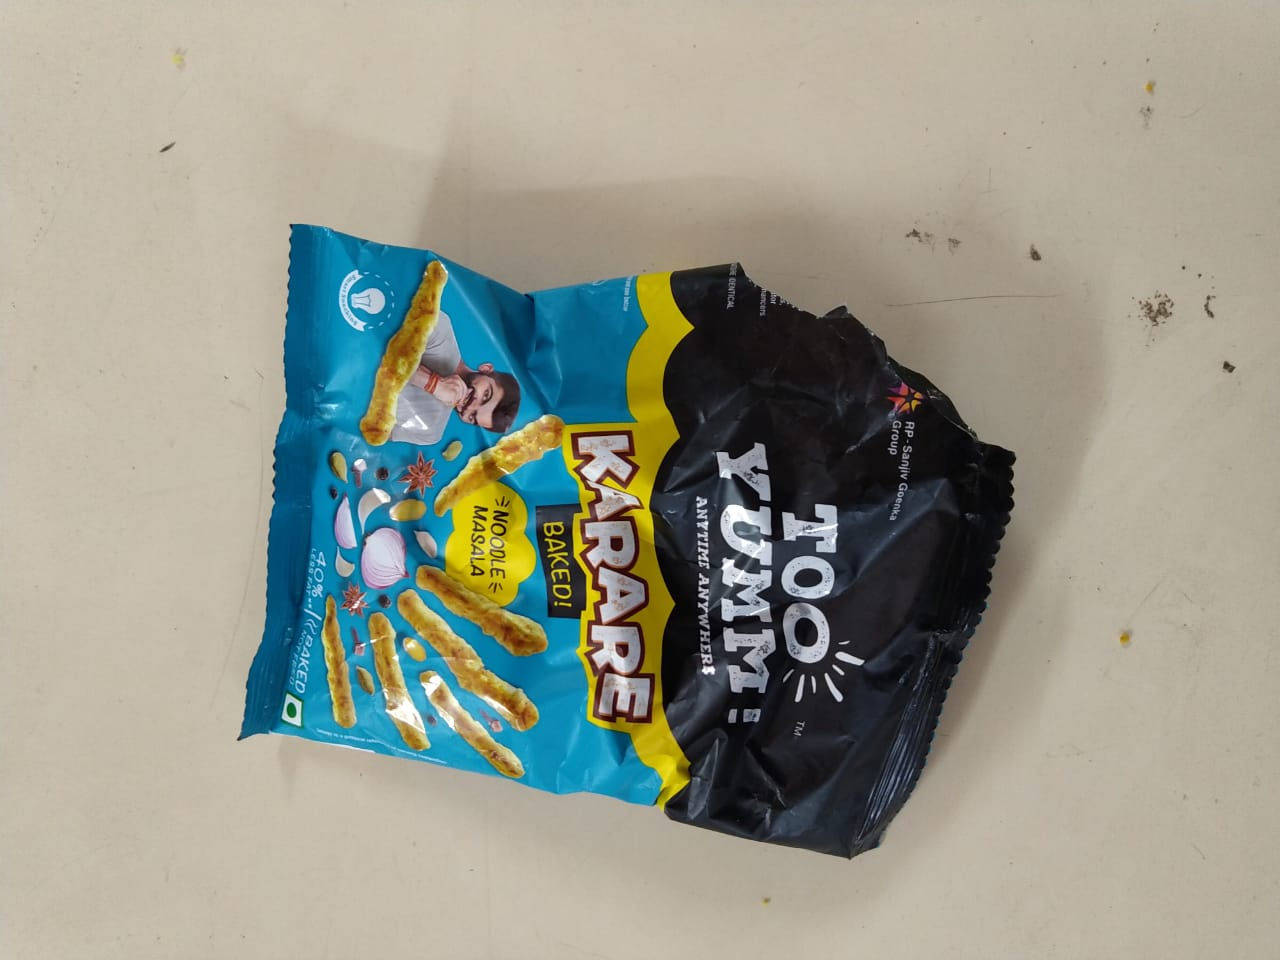plastic: (247, 217, 1017, 847)
tooyumm: (669, 387, 865, 779), (647, 481, 859, 707), (703, 439, 871, 713), (675, 419, 799, 755)
wrapper: (249, 221, 989, 867)
